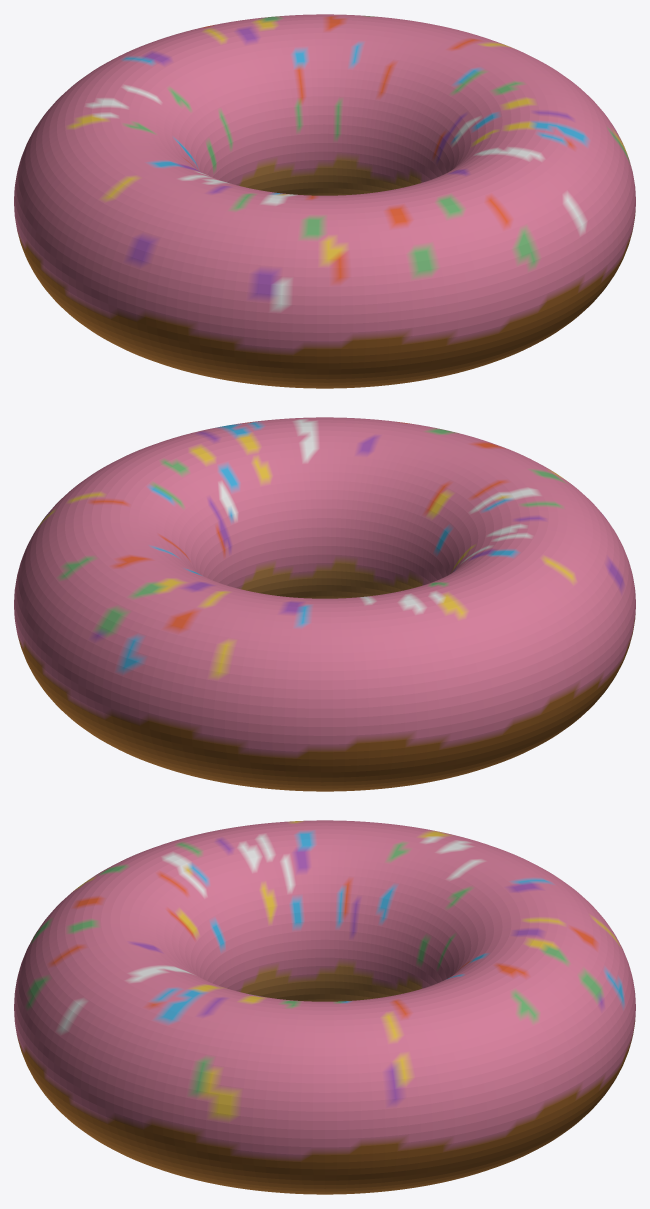
File: donut.glb
3 views of the same model, one above another, from view 1: azimuth 30°, elevation 25°; view 2: azimuth 150°, elevation 25°; view 3: azimuth 270°, elevation 25° (orthographic).
Bounding box in the file's own units: 2.9 × 0.9 × 2.9.
